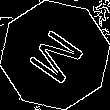M_SE: (21, 22, 89, 88)
